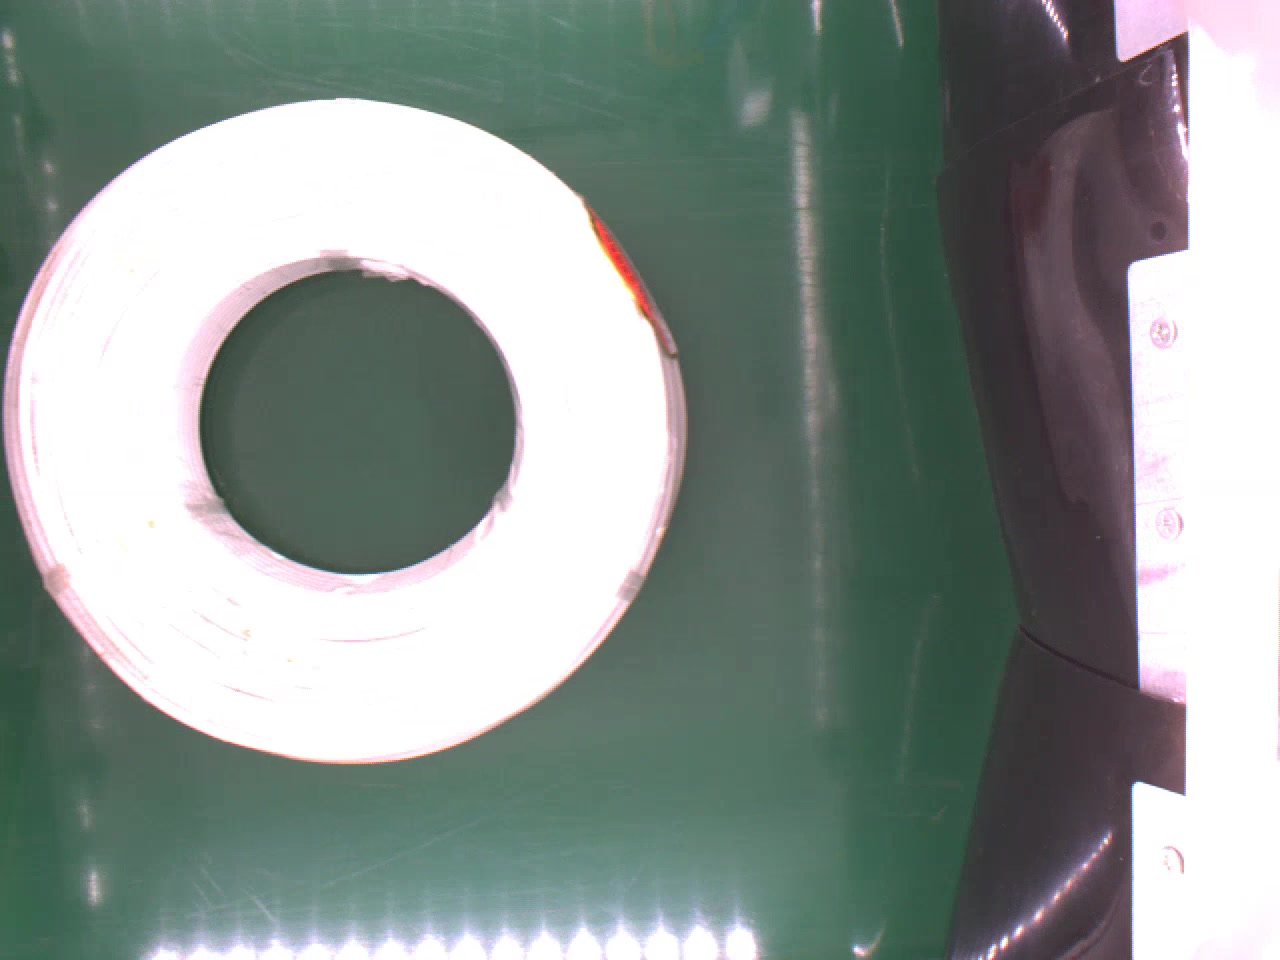white: (0, 95, 690, 770)
